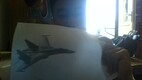maybay_muctieu: (15, 34, 74, 74)
